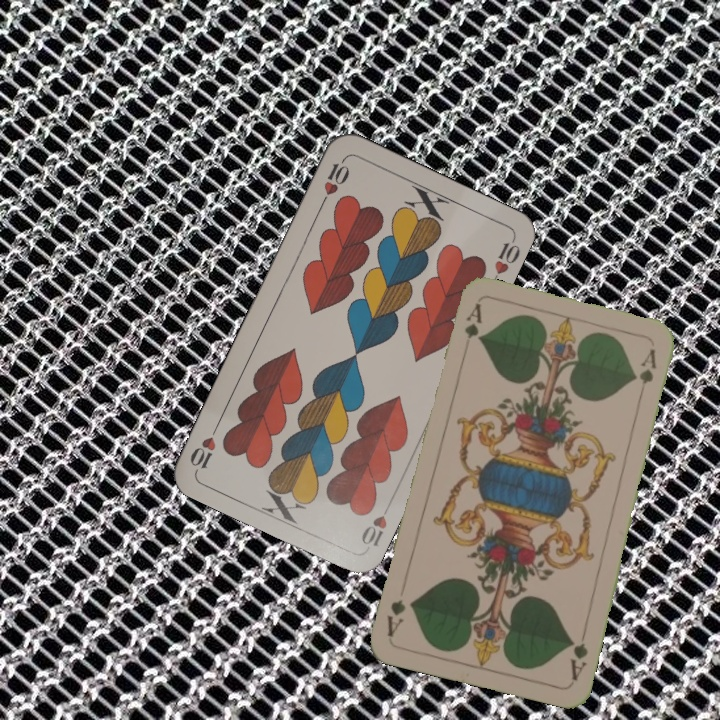GA: (565, 625, 591, 683), (458, 300, 484, 358)
H10: (315, 155, 352, 210), (357, 498, 394, 549)
